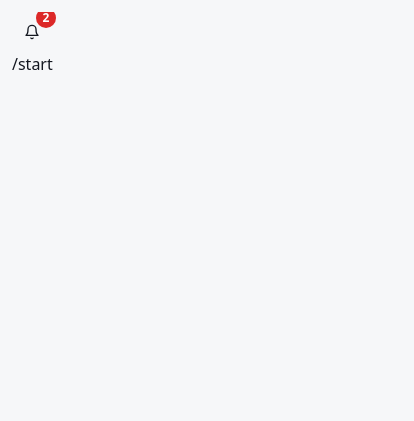
NotificationBell interactions › opening the bell shows rows without marking anything read
What coordinates should you click on to do the following:
click the button named "notifications"
I would click on:
 (32, 32)
Its box is [12, 12, 52, 52].
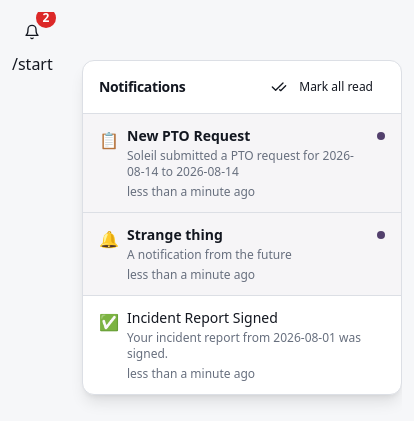
Check: the text "New PTO Request" is shown, box [127, 126, 250, 145]
Check: the text "Soleil submitted a PTO request for 2026-08-14 to 2026-08-14" is shown, box [127, 148, 369, 180]
Check: the 1st text "less than a minute ago" is shown, box [127, 183, 255, 200]
